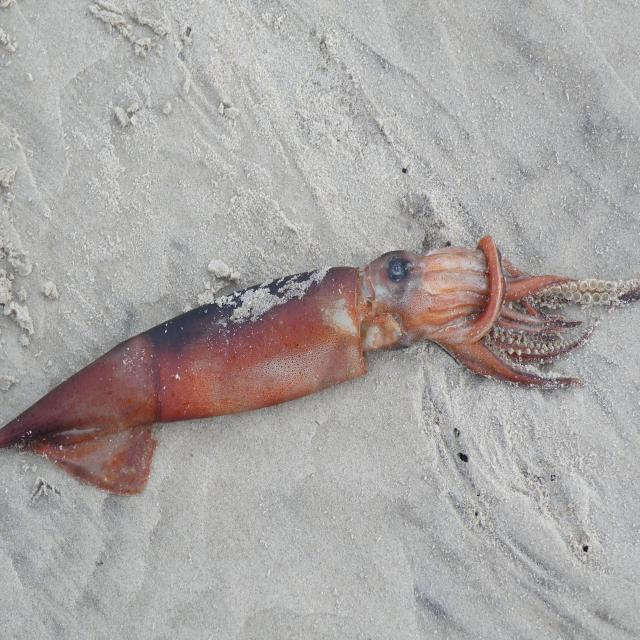SQUID: (0, 192, 640, 520)
